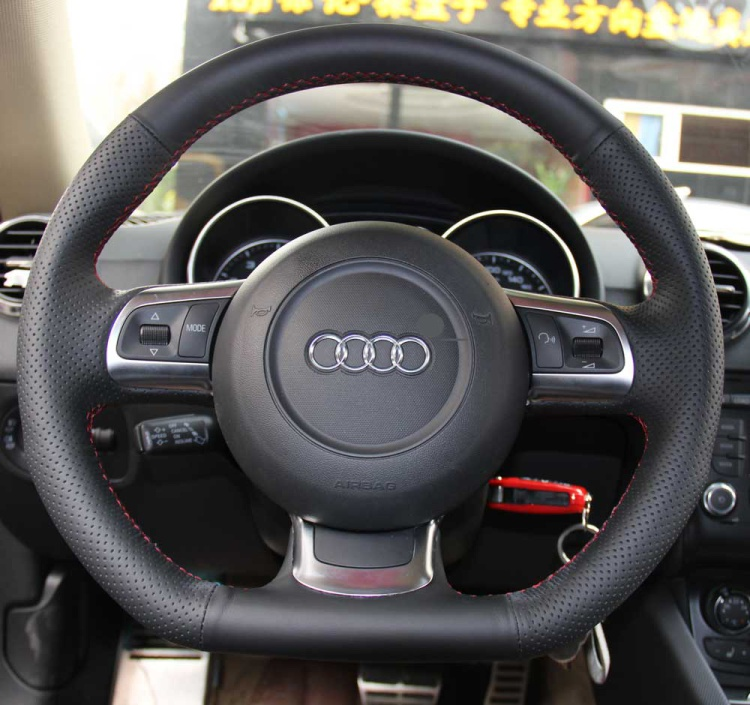audi: (301, 323, 438, 391)
